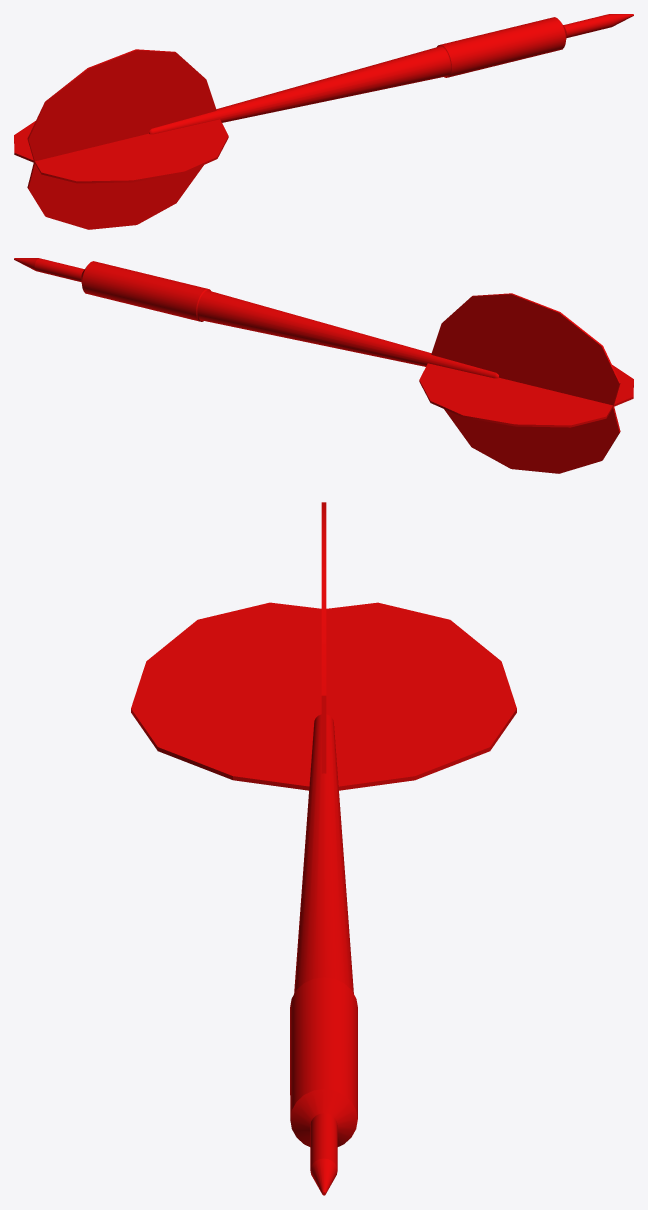
File: Dart(Separeted).fbx
3 renders of one model, top to bottom at view 1: azimuth 30°, elevation 25°; view 2: azimuth 150°, elevation 25°; view 3: azimuth 270°, elevation 25°, orthographic. The views are drawn at different scales.
Visible parts, largest first — view 1: wings, body, point; view 2: wings, body, point; view 3: wings, body, point.
Part boxes in pixels (bbox=[...]): wings: bbox=[14, 49, 228, 229]; body: bbox=[149, 17, 566, 134]; point: bbox=[563, 14, 633, 38]; wings: bbox=[419, 293, 633, 473]; body: bbox=[81, 261, 498, 378]; point: bbox=[14, 258, 84, 282]; wings: bbox=[131, 502, 516, 790]; body: bbox=[290, 714, 357, 1146]; point: bbox=[310, 1113, 337, 1195].
Size of the model in its own units: 19.84 by 5.48 by 5.48.
